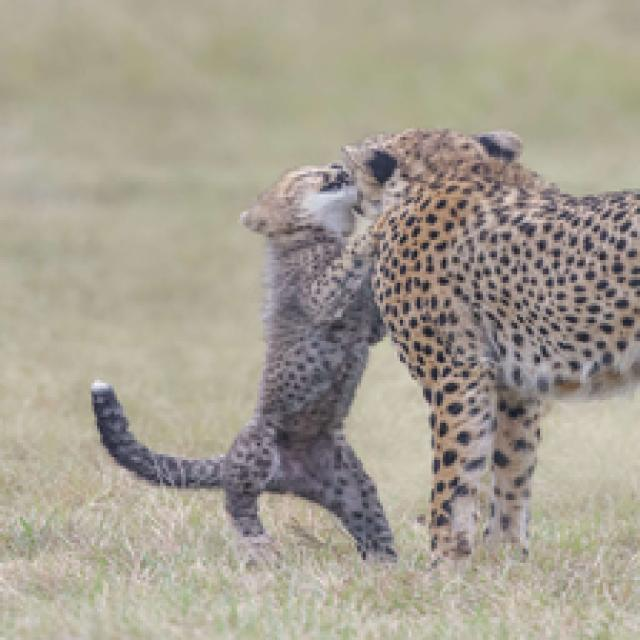cheetah: (72, 146, 405, 557), (329, 129, 640, 534)
